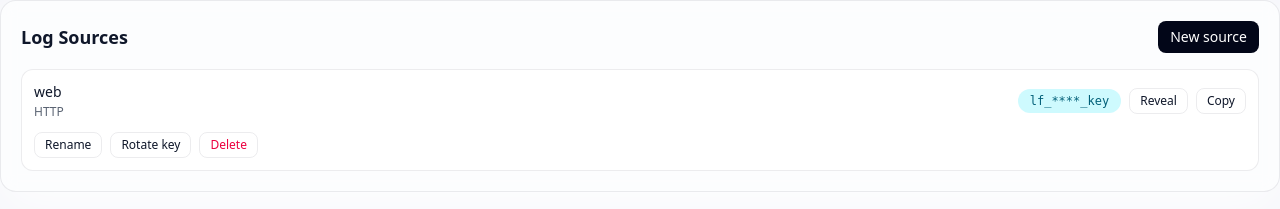
Test: SourcesPanel: key hint and reveal in the list › reveals the full key on click through the API and hides it again
Click the button with aria-label "Reveal API key of web" at coordinates (1159, 101), box [1129,88,1188,114]
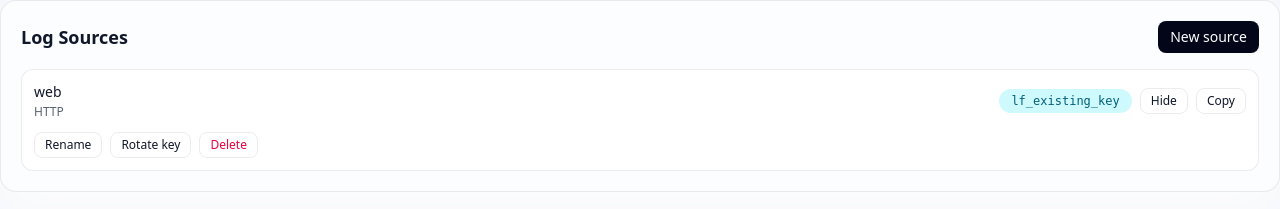
Now the text with test id "source-api-key" reads "lf_existing_key", box [1011,94,1120,108]
Click the button with aria-label "Hide API key of web" at coordinates (1164, 101), box [1140,88,1188,114]
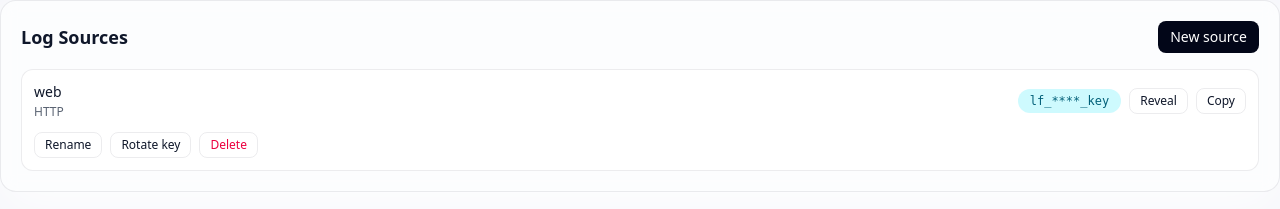
Now the text with test id "source-api-key" reads "lf_****_key", box [1030,94,1109,108]
Now the text "lf_existing_key" is gone
# The hidden key was dropped, so the next reveal asks the API again.
Click the button with aria-label "Reveal API key of web" at coordinates (1159, 101), box [1129,88,1188,114]
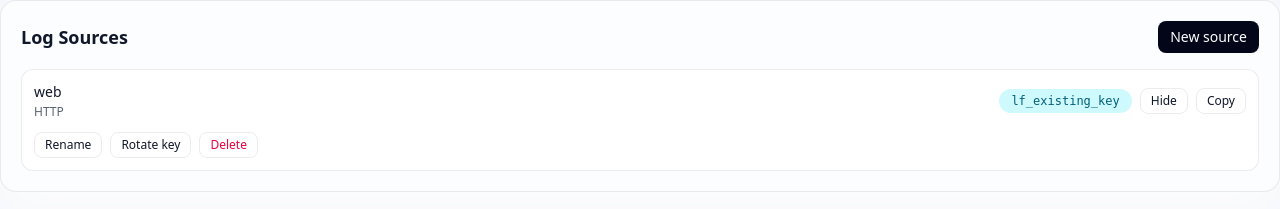
Now the button with aria-label "Hide API key of web" is shown, box [1140,88,1188,114]
